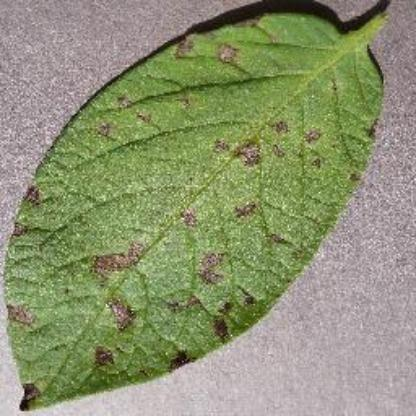Early-Blight: (8, 7, 394, 408)
